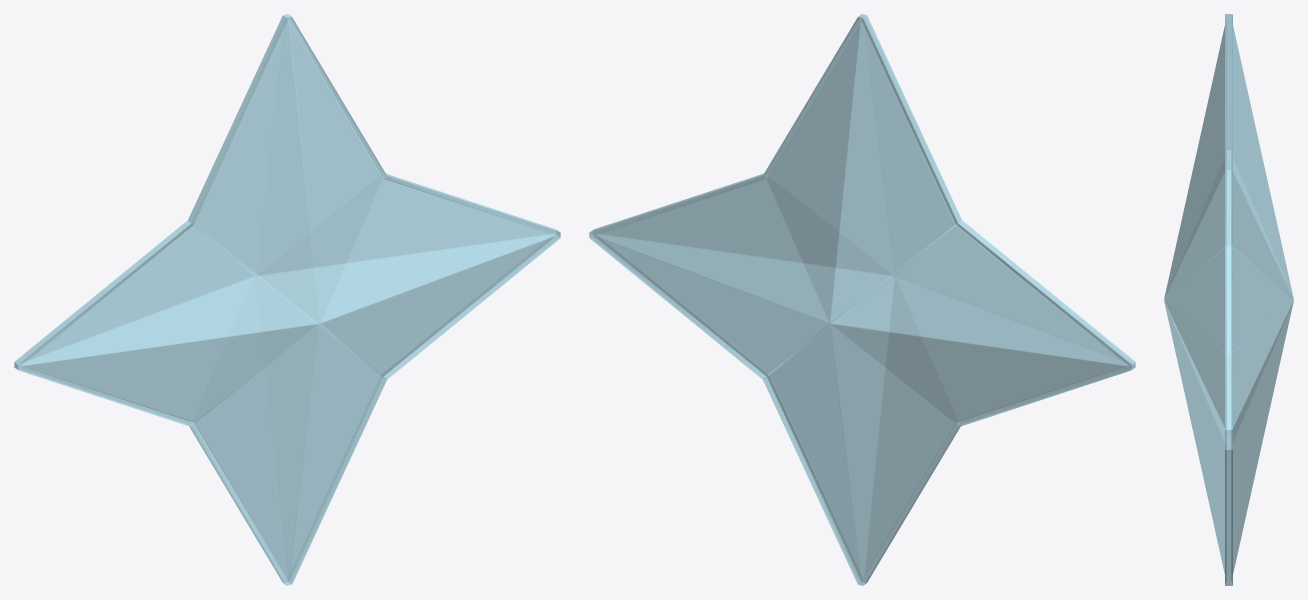
The model's file is Primogem.fbx.
3 views of the same model, side by side, from view 1: azimuth 30°, elevation 25°; view 2: azimuth 150°, elevation 25°; view 3: azimuth 270°, elevation 25° (orthographic).
Visible parts, largest first — view 1: Выдавливание_9; view 2: Выдавливание_9; view 3: Выдавливание_9.
Part boxes in pixels (x1,y1,x2,y2): Выдавливание_9: (14, 14, 560, 585); Выдавливание_9: (589, 14, 1135, 585); Выдавливание_9: (1164, 14, 1293, 585).
Bounding box in the file's own units: 405 × 405 × 83.62.
